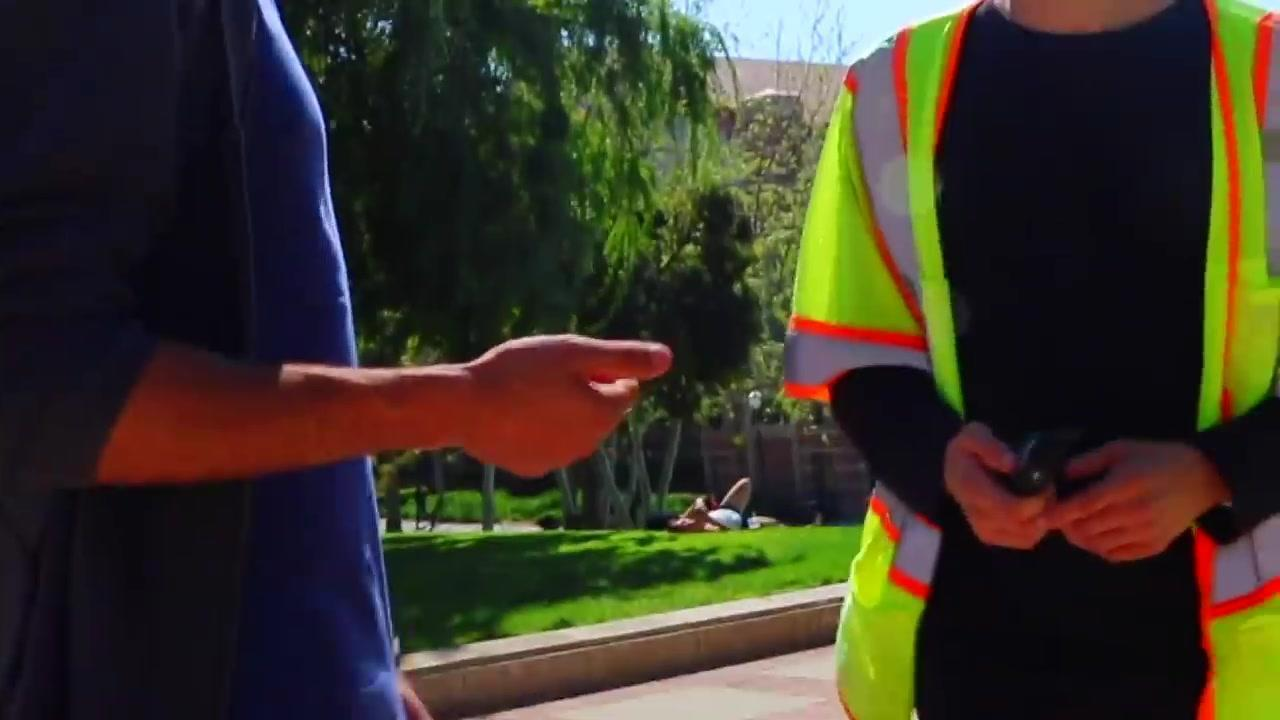vest: (790, 0, 1278, 718)
